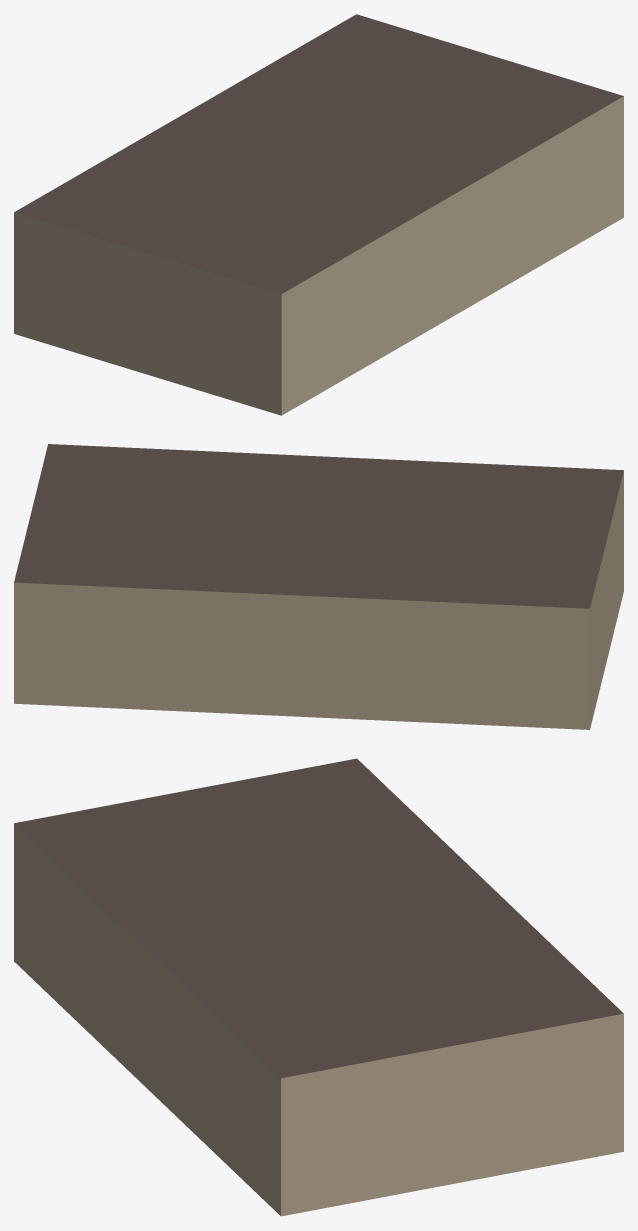
The picture shows the model from 3 angles, top to bottom: view 1: azimuth 30°, elevation 25°; view 2: azimuth 150°, elevation 25°; view 3: azimuth 270°, elevation 25°; orthographic projection. The views are drawn at different scales.
Visible parts, largest first — view 1: HP-w679059118; view 2: HP-w679059118; view 3: HP-w679059118.
Boxes of the visible parts, x1,y1,x2,y2 form: HP-w679059118: (14,14,623,415); HP-w679059118: (14,444,623,729); HP-w679059118: (14,758,623,1216).
Size of the model in its own units: 44.7 by 9 by 36.02.
